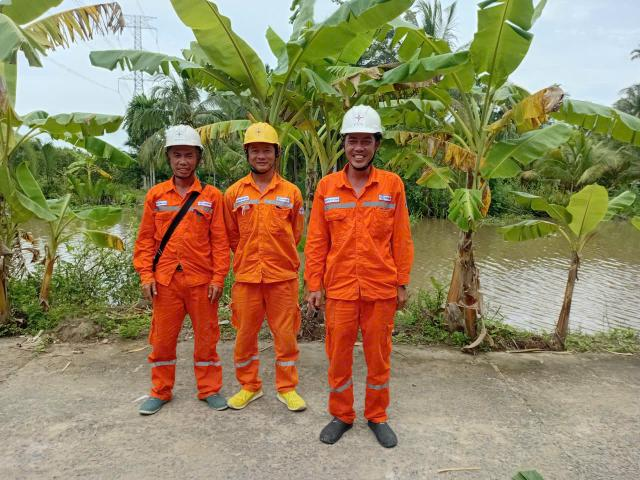helmet: (329, 96, 390, 148), (237, 117, 288, 154), (159, 120, 212, 154)
shoes: (361, 409, 408, 454), (316, 410, 358, 452), (229, 379, 269, 415), (139, 381, 174, 422), (274, 384, 311, 417), (196, 384, 229, 416)
